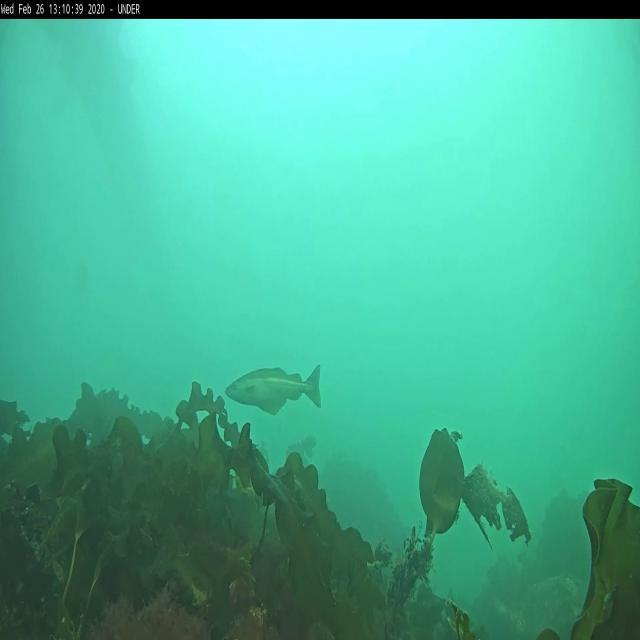fish: (226, 366, 322, 414)
